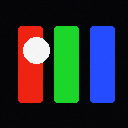2 circle: (23, 37, 49, 63)
